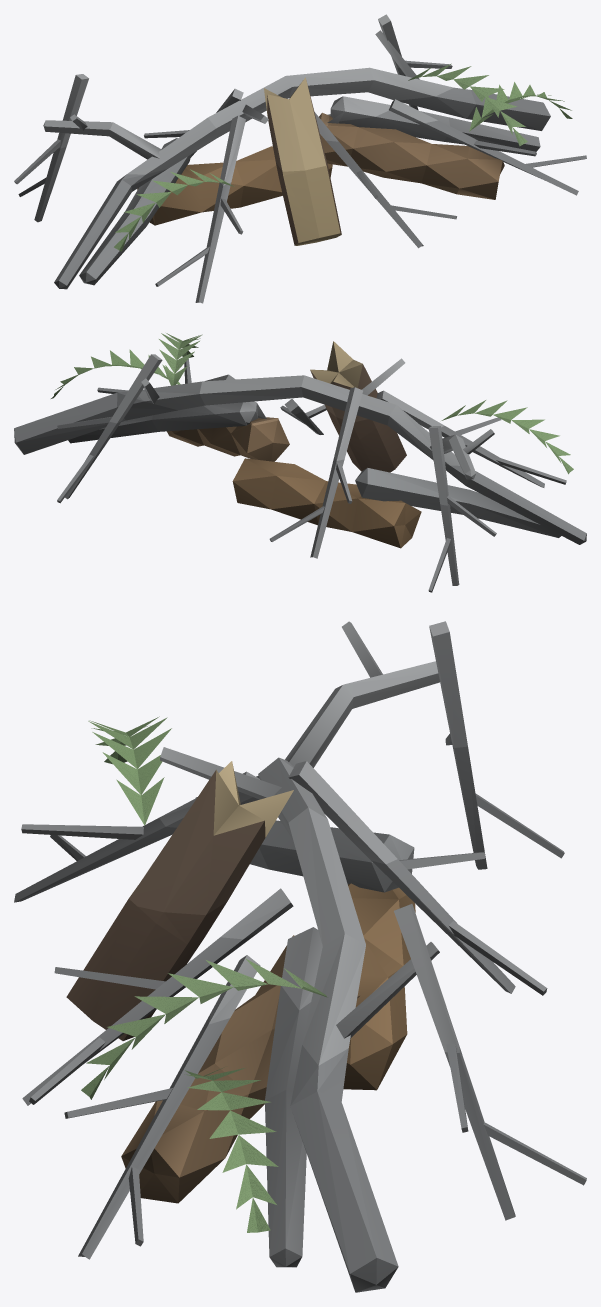
File: driftwood.glb
3 renders of one model, top to bottom at view 1: azimuth 30°, elevation 25°; view 2: azimuth 150°, elevation 25°; view 3: azimuth 270°, elevation 25°, orthographic. The views are drawn at different scales.
Parts seen in each view (by area): view 1: driftwood; view 2: driftwood; view 3: driftwood.
Boxes of the visible parts, <box> form: driftwood: <box>14,14,586,303</box>; driftwood: <box>14,333,586,592</box>; driftwood: <box>14,621,586,1292</box>.
Size of the model in its own units: 3.9 by 1.03 by 1.95.
